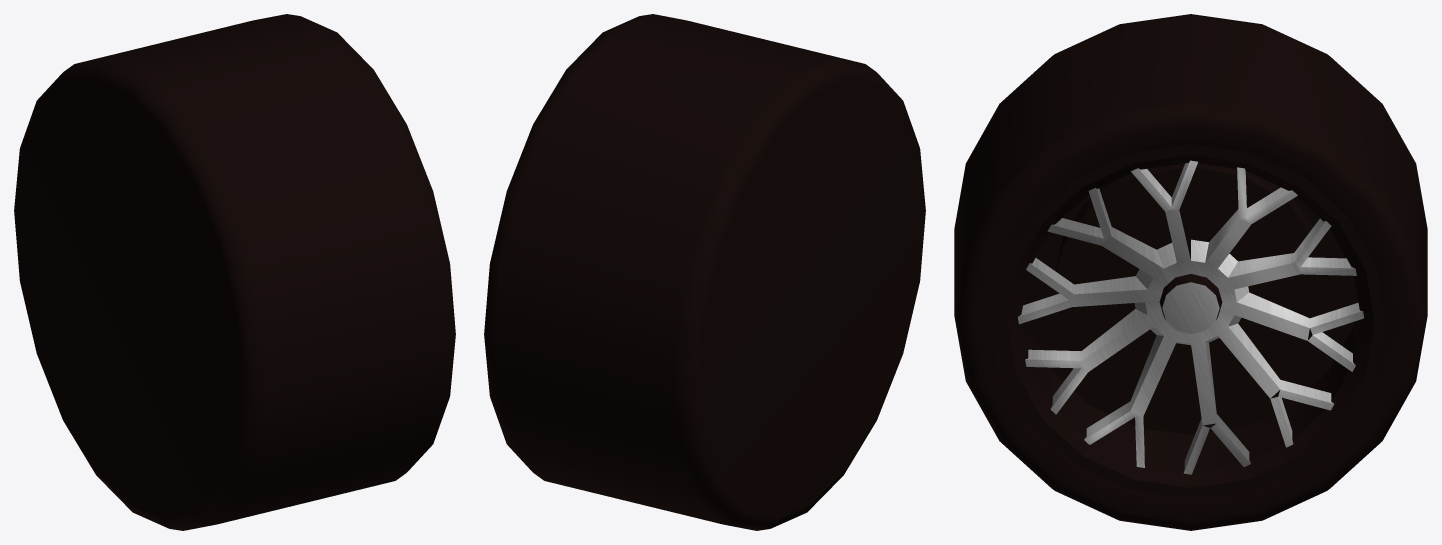
Rendered from llanta.obj.
3 views of the same model, side by side, from view 1: azimuth 30°, elevation 25°; view 2: azimuth 150°, elevation 25°; view 3: azimuth 270°, elevation 25° (orthographic). The views are drawn at different scales.
Parts seen in each view (by area): view 1: llanta:Wheel; view 2: llanta:Wheel; view 3: llanta:Wheel.
Boxes of the visible parts, x1=… form: llanta:Wheel: x1=14, y1=14, x2=455, y2=530; llanta:Wheel: x1=484, y1=14, x2=925, y2=530; llanta:Wheel: x1=954, y1=14, x2=1427, y2=530.
Size of the model in its own units: 0.391 by 0.7639 by 0.7639.
Materials: 2 (2 with a texture image).
